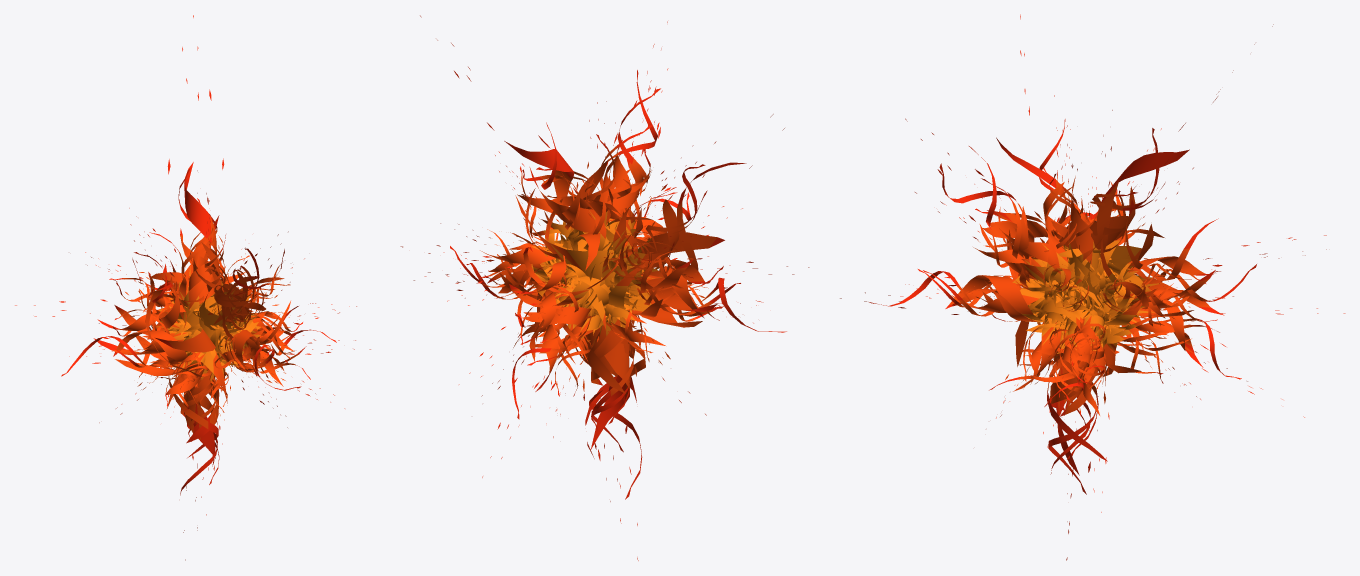
Rendered from fireball_18.obj.
3 views of the same model, side by side, from view 1: azimuth 30°, elevation 25°; view 2: azimuth 150°, elevation 25°; view 3: azimuth 270°, elevation 25° (orthographic). The views are drawn at different scales.
Visible parts, largest first — view 1: Fireball; view 2: Fireball; view 3: Fireball.
Part boxes in pixels (left/top/right/bottom): Fireball: left=15, top=15, right=370, bottom=560; Fireball: left=400, top=15, right=809, bottom=560; Fireball: left=840, top=14, right=1345, bottom=560.
Bounding box in the file's own units: 1.71 × 2.28 × 1.76.
